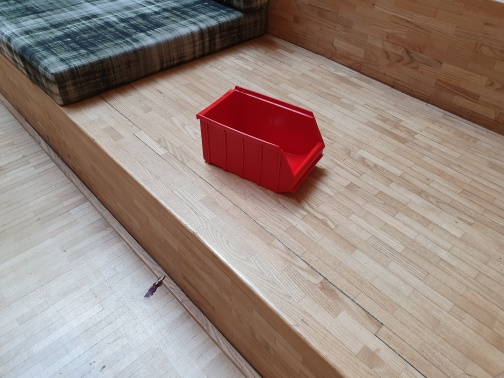tray_left: (198, 111, 295, 195)
